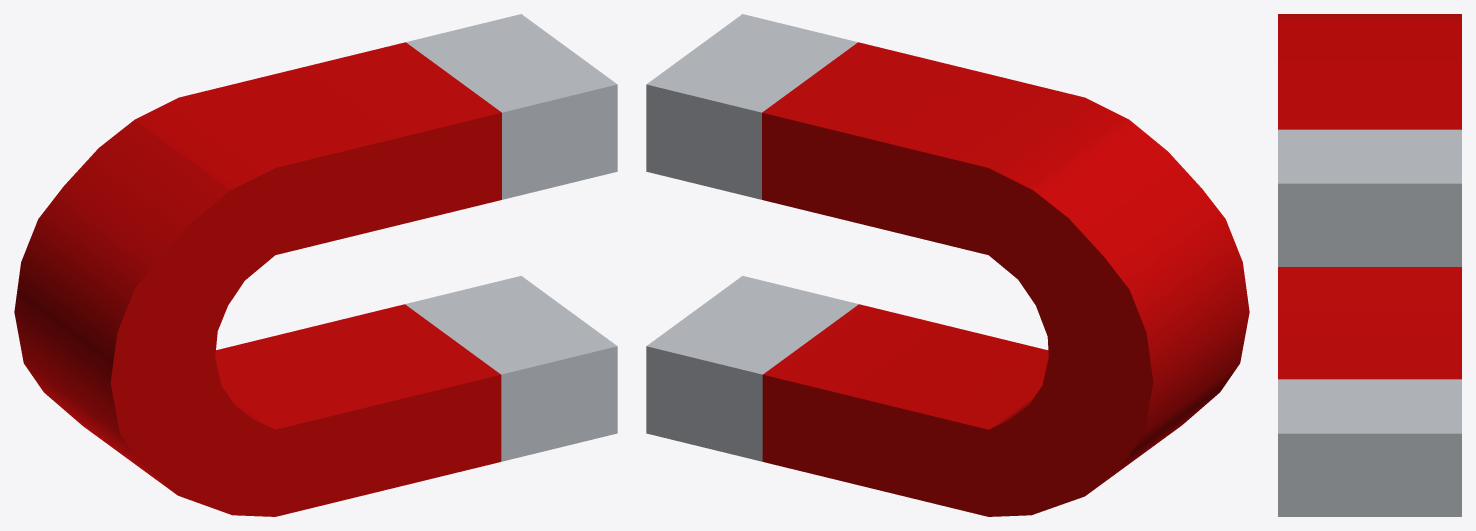
File: magnet.fbx
3 renders of one model, left to right at view 1: azimuth 30°, elevation 25°; view 2: azimuth 150°, elevation 25°; view 3: azimuth 270°, elevation 25°, orthographic. The views are drawn at different scales.
Parts seen in each view (by area): view 1: pCube1; view 2: pCube1; view 3: pCube1.
Part boxes in pixels (x1,y1,x2,y2): pCube1: (14, 14, 617, 516); pCube1: (646, 14, 1249, 516); pCube1: (1278, 14, 1461, 516).
Size of the model in its own units: 3.04 by 2 by 1.
